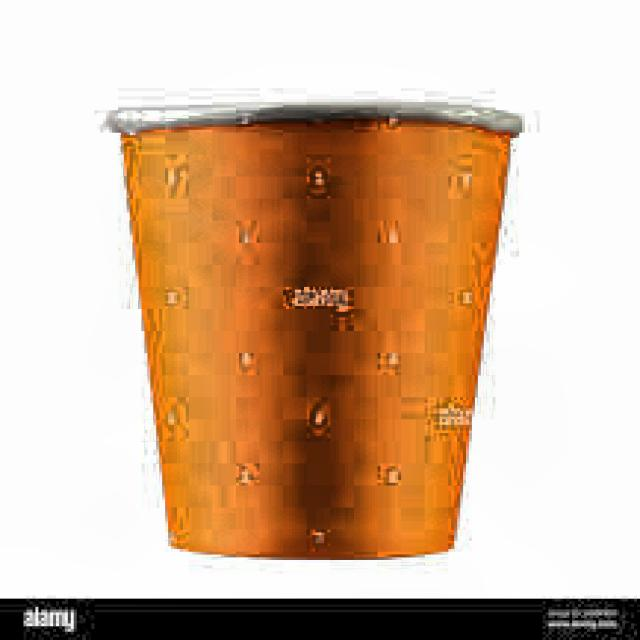Cup: (92, 101, 542, 568)
